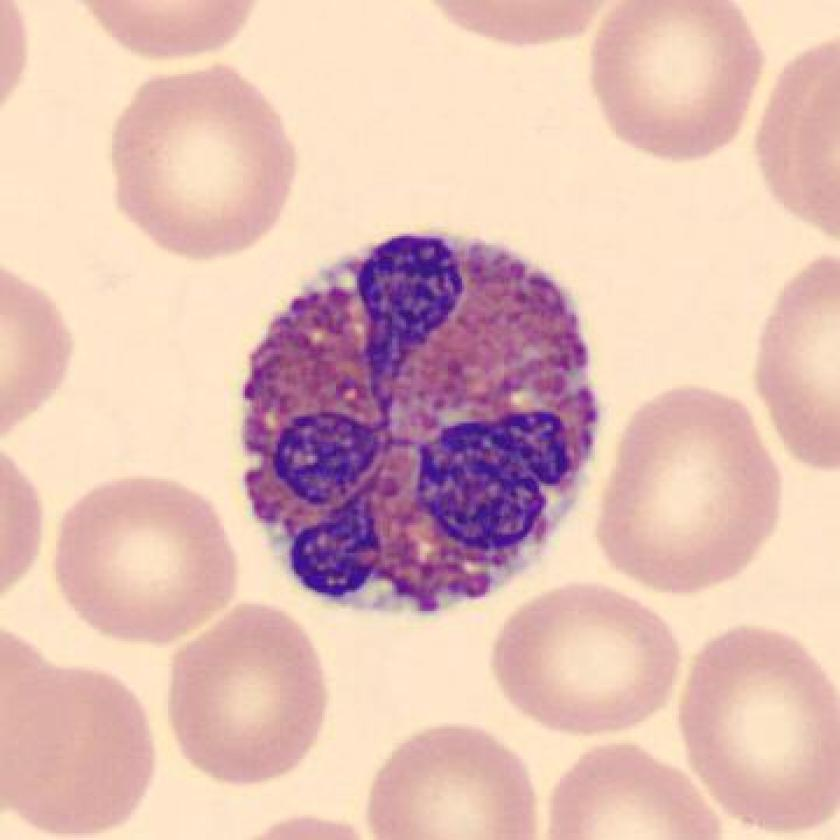eosinophil: (216, 214, 615, 635)
